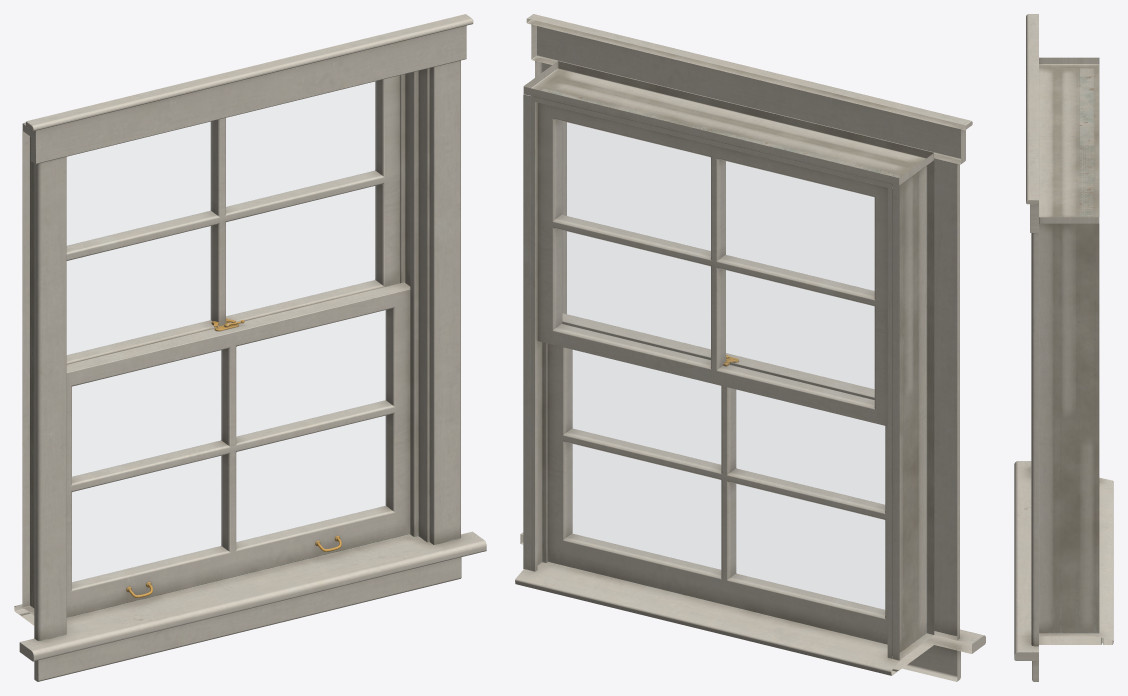
File: corner_window.glb
3 views of the same model, side by side, from view 1: azimuth 30°, elevation 25°; view 2: azimuth 150°, elevation 25°; view 3: azimuth 270°, elevation 25° (orthographic). The views are drawn at different scales.
Parts seen in each view (by area): view 1: WindowFrame, WindowGlass; view 2: WindowFrame, WindowGlass; view 3: WindowFrame.
Boxes of the visible parts, x1,y1,x2,y2 form: WindowFrame: (14,14,486,681); WindowGlass: (67,82,386,582); WindowFrame: (515,14,985,681); WindowGlass: (557,120,884,614); WindowFrame: (1014,14,1113,681).
Size of the model in its own units: 1.2 by 1.42 by 0.2628.
Materials: 2 (1 with a texture image).
